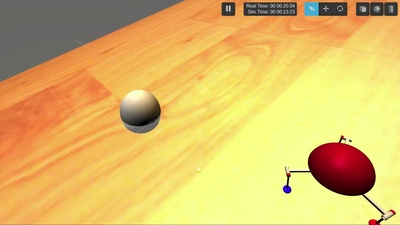mira_robot: (120, 90, 161, 134)
